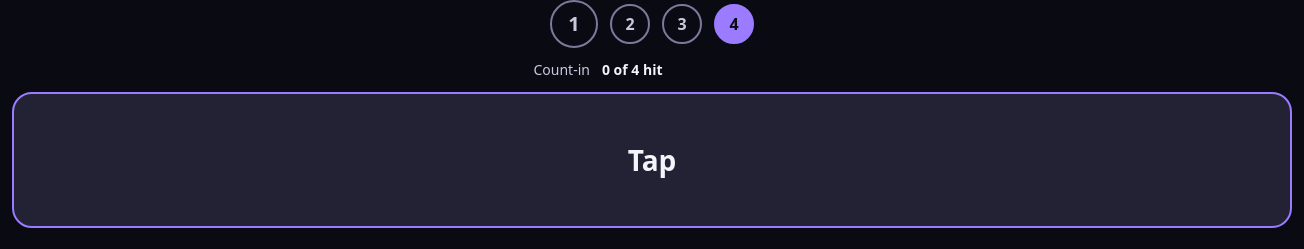
Test: chrome › minimal shows no Start button, no Try again and no result block, but keeps the tap surface, the tally and the announcements
This screenshot has width=1304, height=249.
Later steps or results of the test are not shown.
Press the mouse on the button with test id "tap-target": (652, 160) [12,92,1292,228]
Wait 499 ms
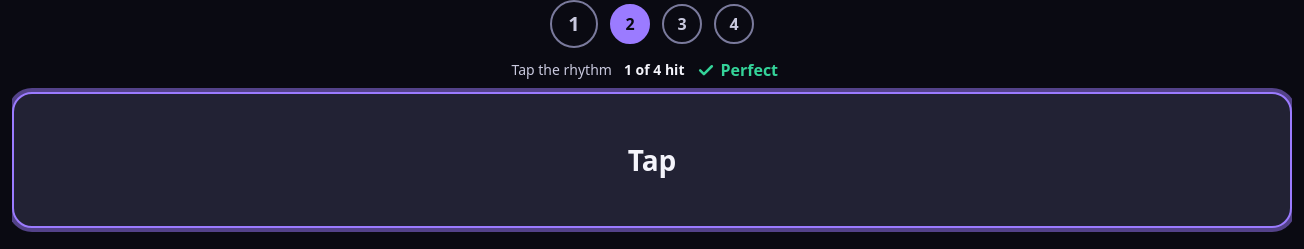
Press the mouse on the button with test id "tap-target": (652, 160) [12,92,1292,228]
Wait 499 ms
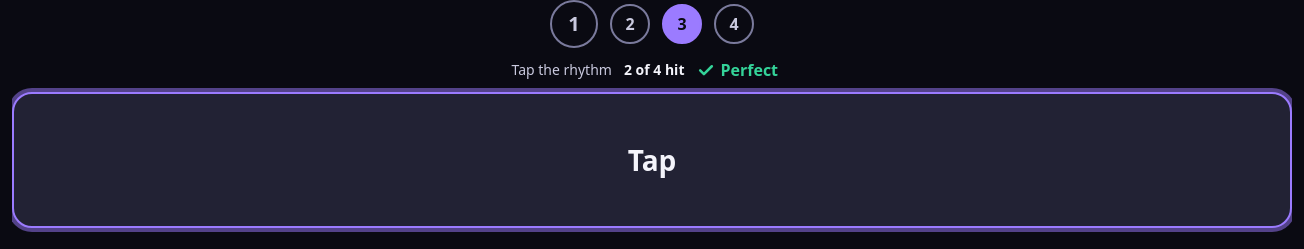
Press the mouse on the button with test id "tap-target": (652, 160) [12,92,1292,228]
Wait 499 ms
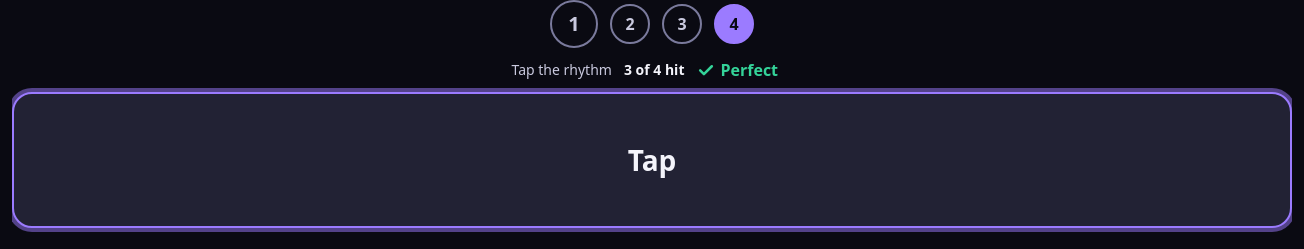
Press the mouse on the button with test id "tap-target": (652, 160) [12,92,1292,228]
Wait 1050 ms
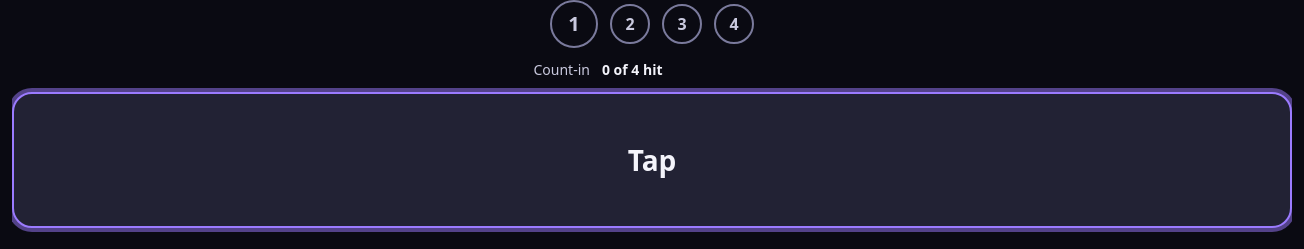
Now the element showing "1 2 3 4 Count-in 0 of 4 hit Tap" has attribute data-phase="count-in"
